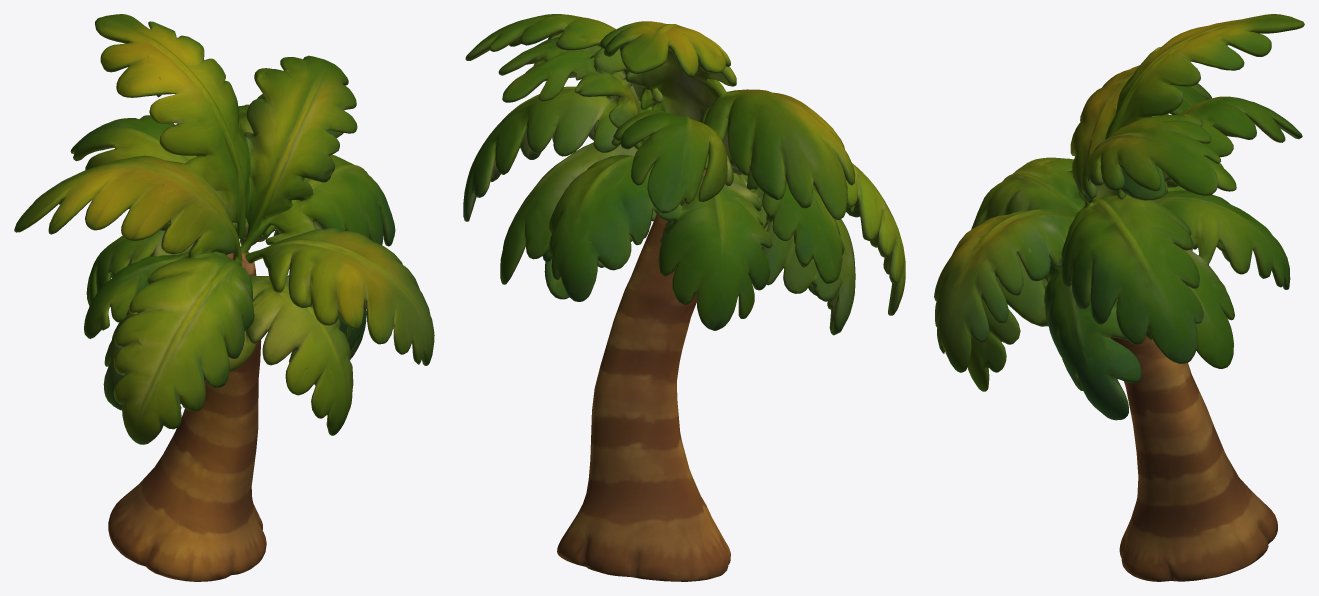
The model's file is palm_tree.glb.
The picture shows the model from 3 angles, left to right: view 1: azimuth 30°, elevation 25°; view 2: azimuth 150°, elevation 25°; view 3: azimuth 270°, elevation 25°; orthographic projection. The views are drawn at different scales.
Size of the model in its own units: 2.46 by 3.4 by 2.18.
Materials: 1 (1 with a texture image).
